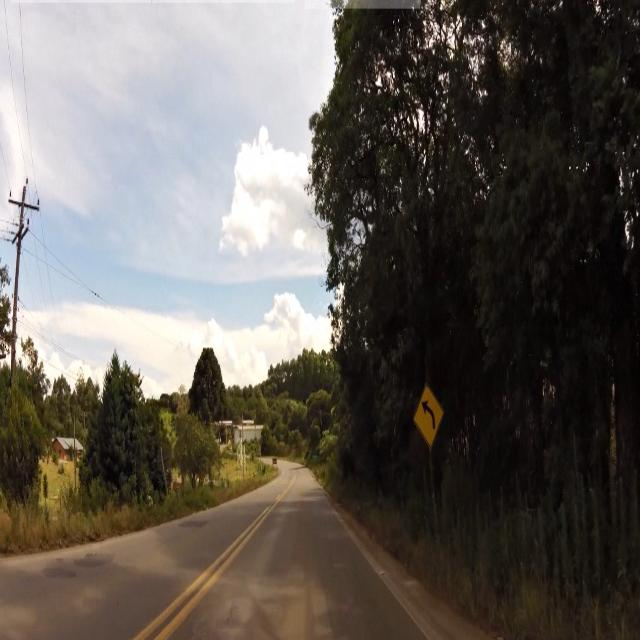A-2a: (413, 384, 449, 456)
